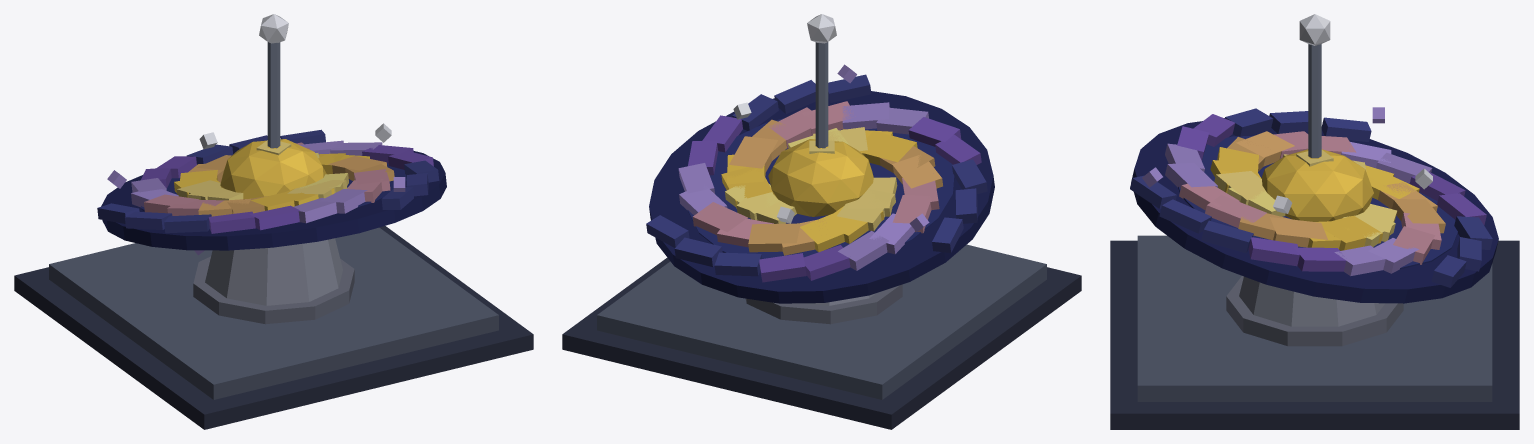
Rendered from Decor_Observatory_Galaxy.fbx.
3 renders of one model, left to right at view 1: azimuth 30°, elevation 25°; view 2: azimuth 150°, elevation 25°; view 3: azimuth 270°, elevation 25°, orthographic. The views are drawn at different scales.
Visible parts, largest first — view 1: Galaxy_Body; view 2: Galaxy_Body; view 3: Galaxy_Body.
Part boxes in pixels (x1,y1,x2,y2): Galaxy_Body: (14,14,533,429); Galaxy_Body: (562,14,1081,429); Galaxy_Body: (1110,14,1519,429).
Size of the model in its own units: 18 by 16 by 18.
